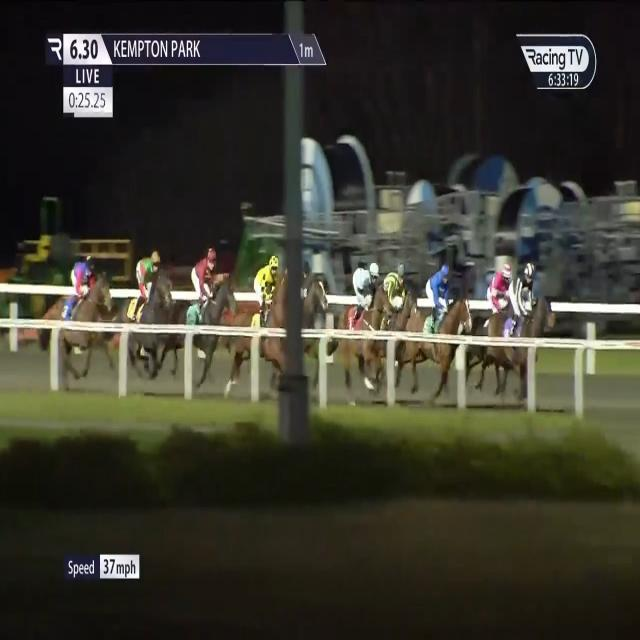horses-racing: (169, 240, 239, 375), (108, 248, 178, 373), (50, 246, 114, 368), (494, 260, 548, 398), (331, 249, 383, 382), (415, 256, 465, 379), (367, 260, 416, 358), (472, 258, 521, 343), (252, 252, 284, 310)
